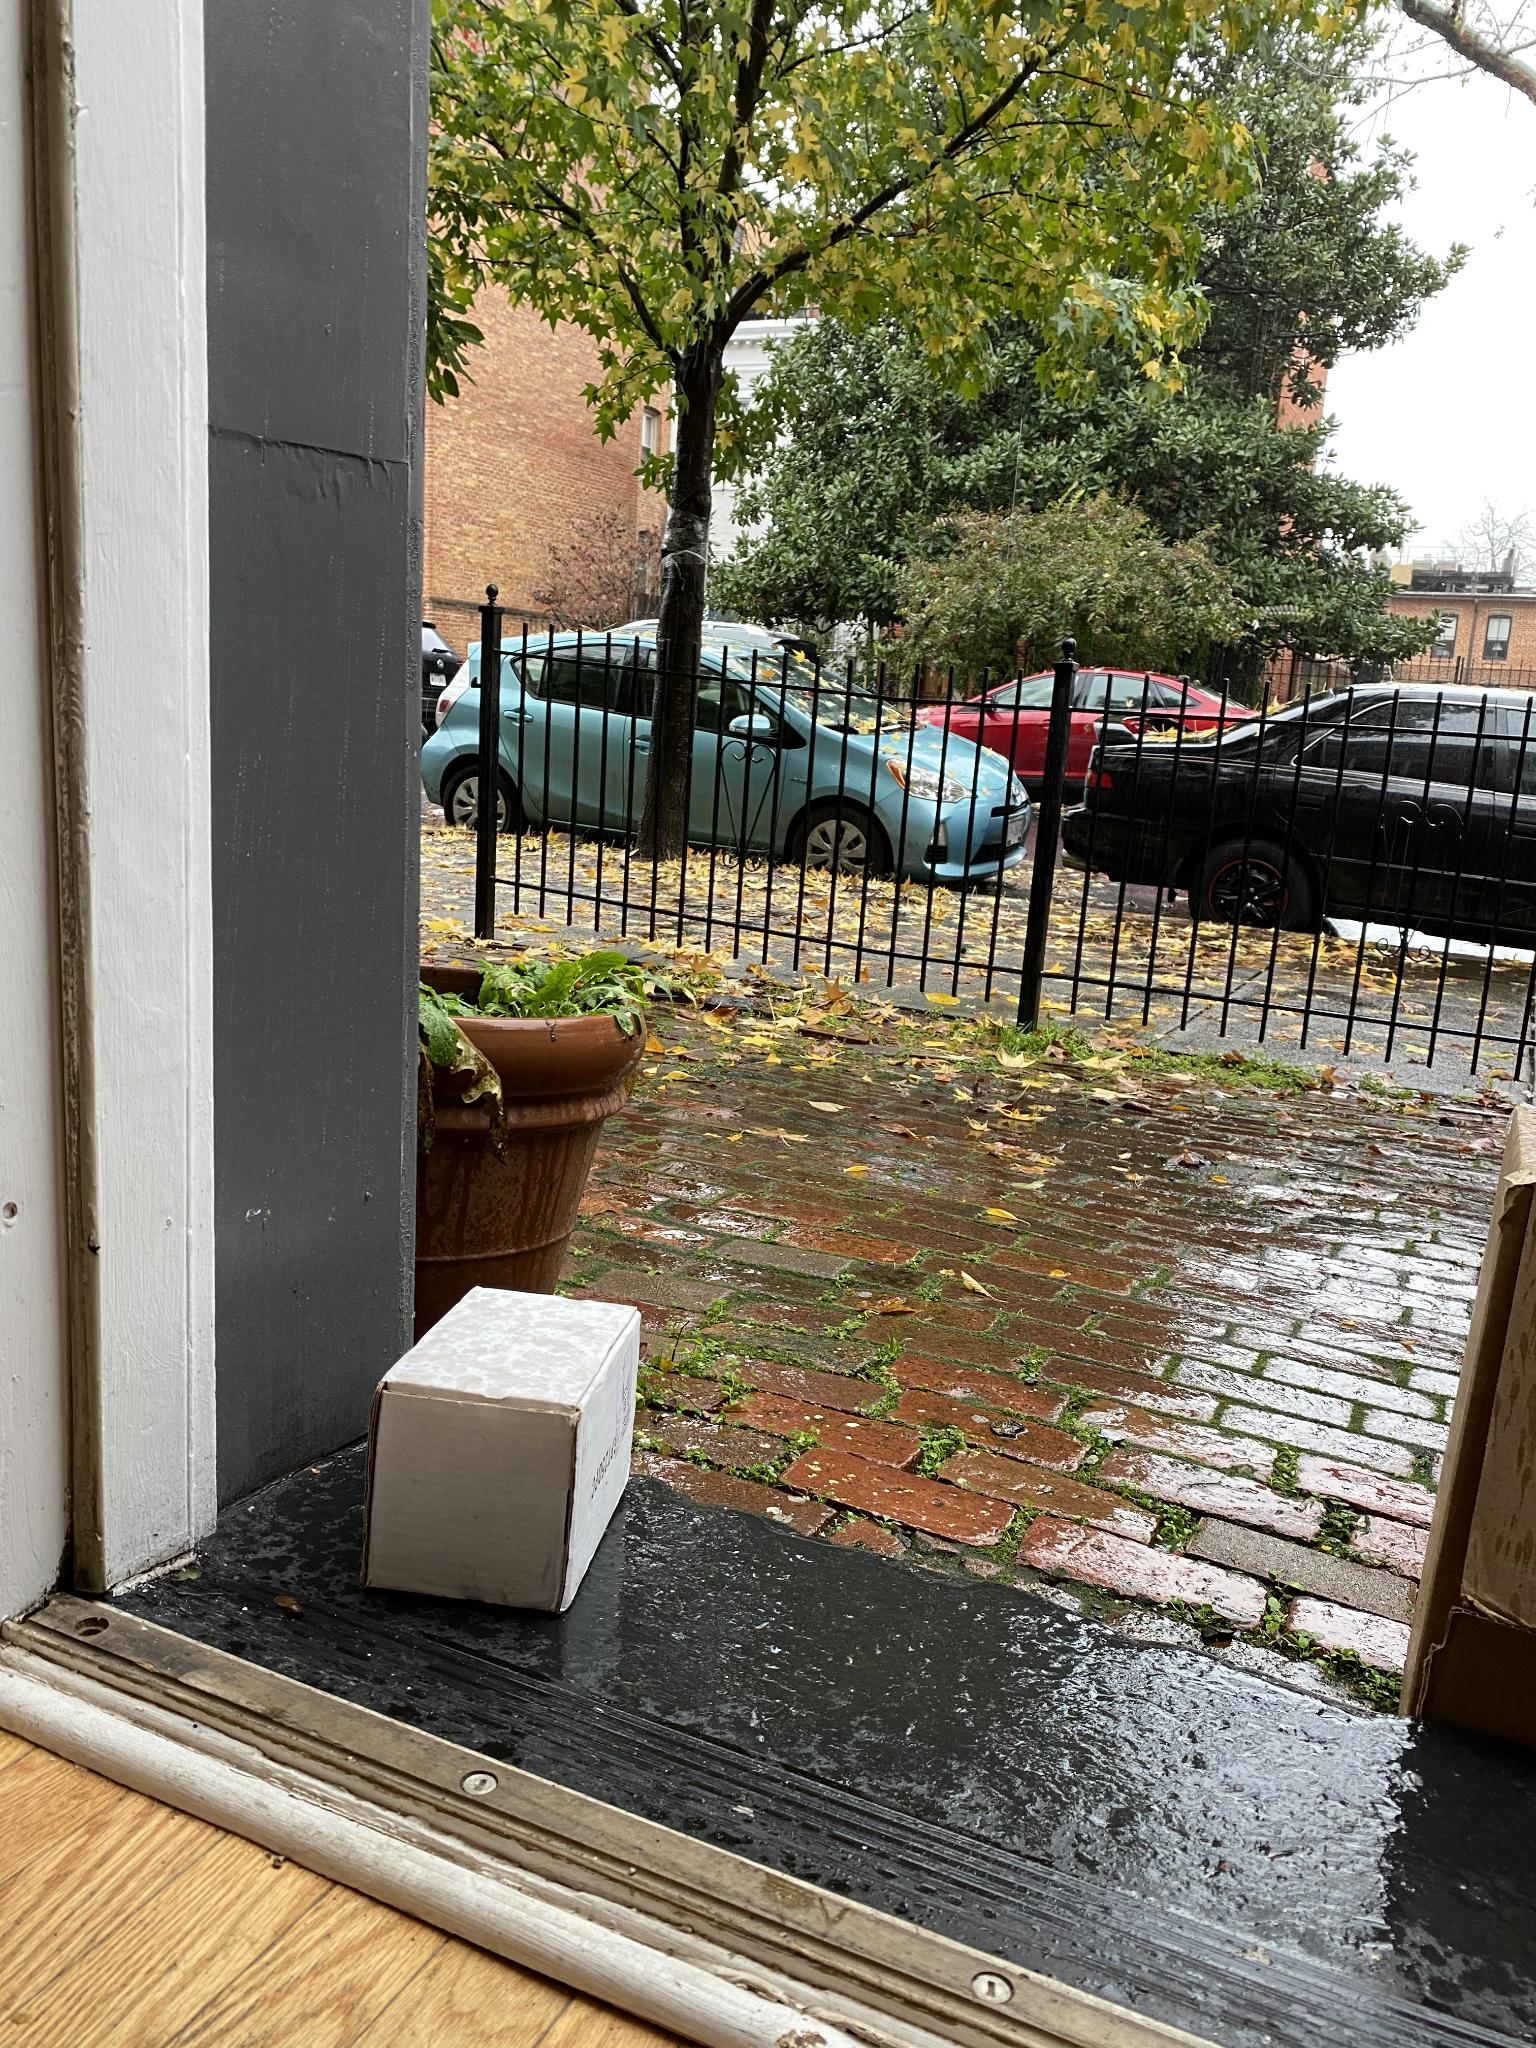package: (336, 1276, 666, 1630)
